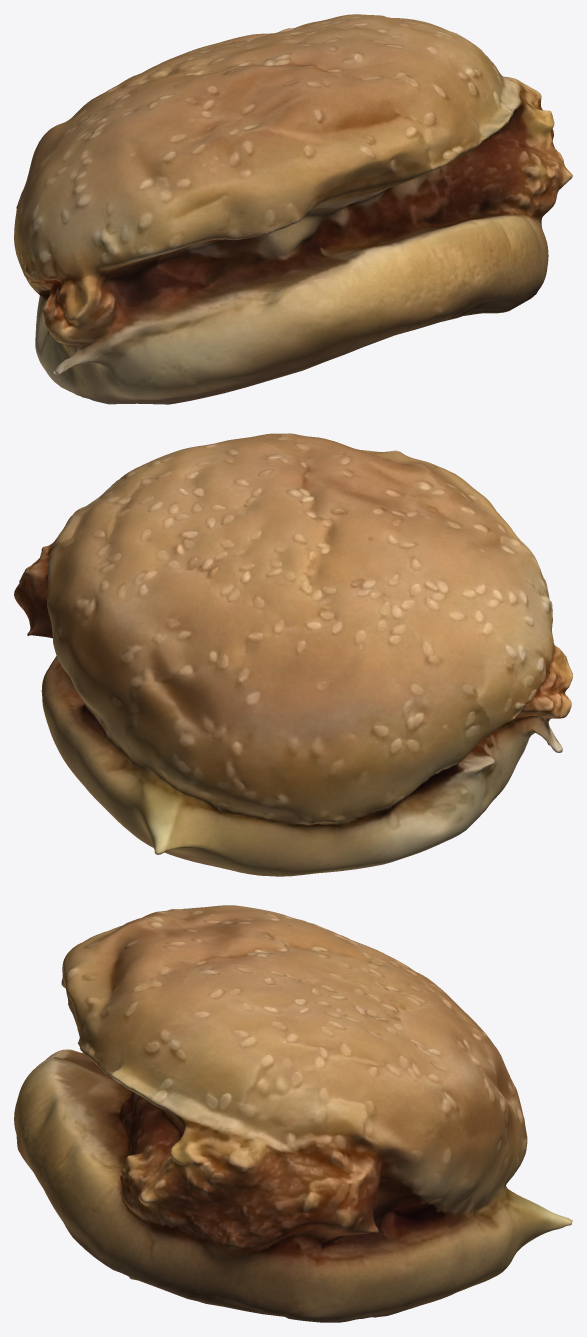
The model's file is subject7.glb.
3 views of the same model, one above another, from view 1: azimuth 30°, elevation 25°; view 2: azimuth 150°, elevation 25°; view 3: azimuth 270°, elevation 25° (orthographic). The views are drawn at different scales.
Parts seen in each view (by area): view 1: 3DModel; view 2: 3DModel; view 3: 3DModel.
Boxes of the visible parts, left/top/right/bottom form: 3DModel: left=14, top=14, right=572, bottom=404; 3DModel: left=14, top=433, right=572, bottom=876; 3DModel: left=14, top=905, right=572, bottom=1322.
Bounding box in the file's own units: 0.6018 × 0.3615 × 0.5611.
1 material, 1 textured.
